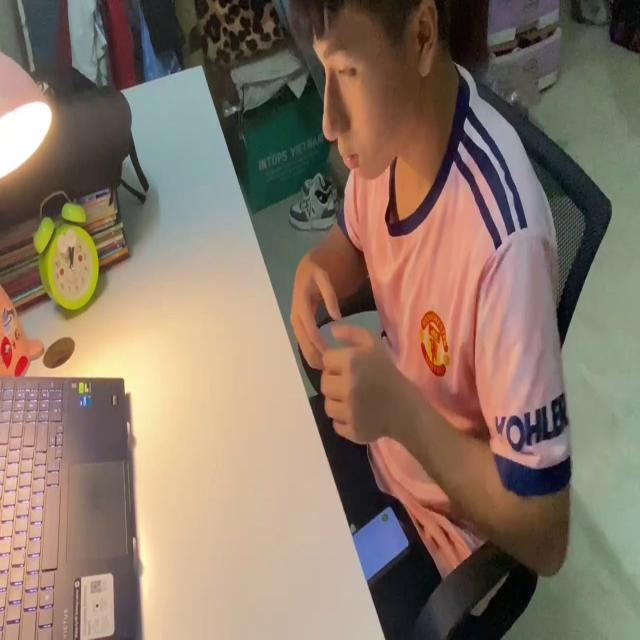laptop: (0, 366, 140, 640)
phone: (348, 500, 413, 582)
student: (285, 0, 575, 587)
